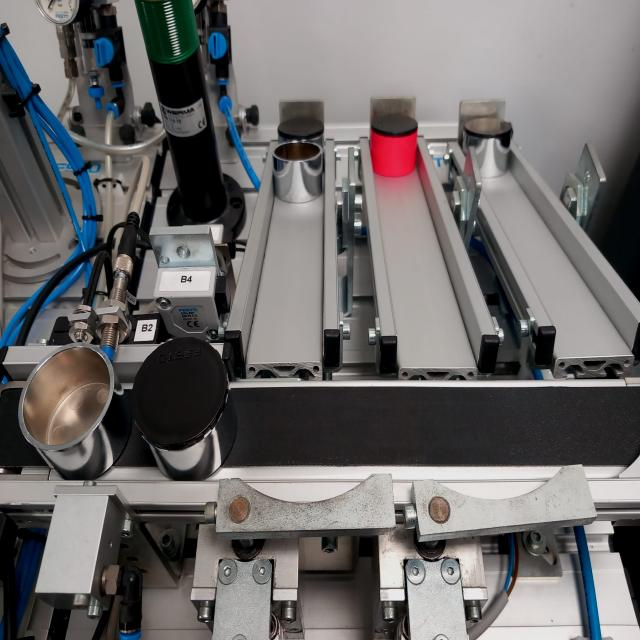NoLid: (14, 342, 132, 480), (273, 141, 327, 204)
Workpiece: (121, 336, 243, 479), (457, 108, 526, 181), (376, 111, 426, 179), (276, 110, 328, 148)
